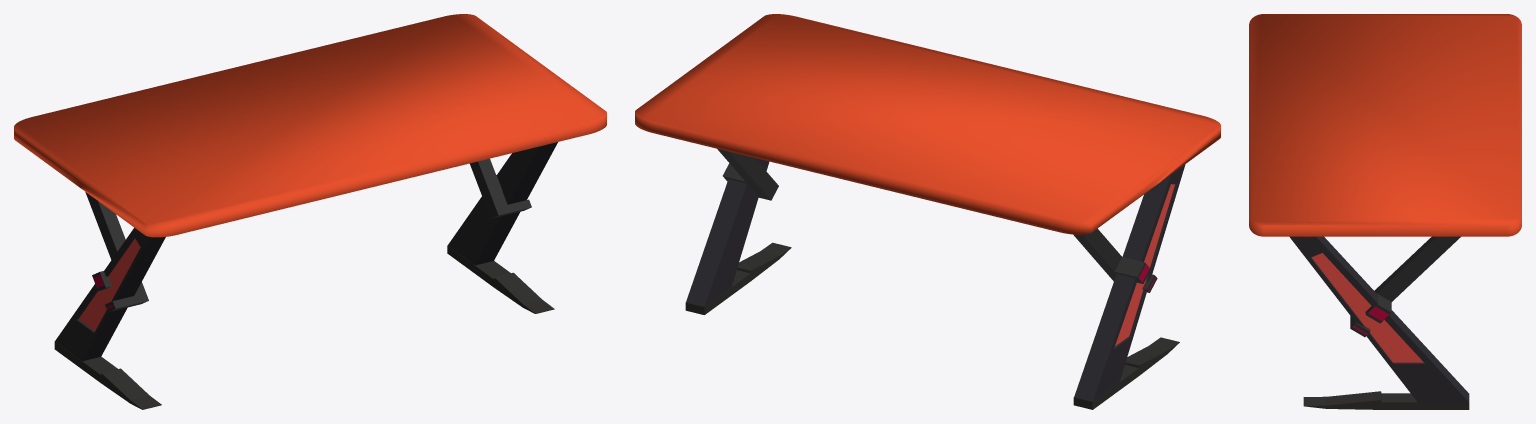
The model's file is desk_lvl3.glb.
3 views of the same model, side by side, from view 1: azimuth 30°, elevation 25°; view 2: azimuth 150°, elevation 25°; view 3: azimuth 270°, elevation 25° (orthographic). The views are drawn at different scales.
Parts seen in each view (by area): view 1: table.001_Cube.011, leg_1_backup_Cube.014, leg_1_backup.001_Cube.022, Cube.008_Cube.010, Cube.001_Cube.018, Cube.005_Cube.015, Cube.004_Cube.021; view 2: table.001_Cube.011, leg_1_backup_Cube.014, leg_1_backup.001_Cube.022, Cube.005_Cube.015, Cube.008_Cube.010, Cube.001_Cube.018, Cube.004_Cube.021; view 3: table.001_Cube.011, leg_1_backup.001_Cube.022, Cube.004_Cube.021, Cube.001_Cube.018.
Boxes of the visible parts, left/top/right/bottom form: table.001_Cube.011: left=14, top=14, right=606, bottom=237; leg_1_backup_Cube.014: left=55, top=227, right=165, bottom=361; leg_1_backup.001_Cube.022: left=448, top=142, right=557, bottom=265; Cube.008_Cube.010: left=54, top=341, right=161, bottom=409; Cube.001_Cube.018: left=447, top=245, right=554, bottom=313; Cube.005_Cube.015: left=85, top=192, right=148, bottom=312; Cube.004_Cube.021: left=470, top=158, right=531, bottom=218; table.001_Cube.011: left=635, top=14, right=1220, bottom=234; leg_1_backup_Cube.014: left=1074, top=164, right=1185, bottom=401; leg_1_backup.001_Cube.022: left=686, top=158, right=769, bottom=306; Cube.005_Cube.015: left=1073, top=228, right=1157, bottom=292; Cube.008_Cube.010: left=1073, top=337, right=1179, bottom=409; Cube.001_Cube.018: left=685, top=242, right=791, bottom=314; Cube.004_Cube.021: left=717, top=149, right=778, bottom=200; table.001_Cube.011: left=1249, top=14, right=1521, bottom=236; leg_1_backup.001_Cube.022: left=1289, top=236, right=1468, bottom=402; Cube.004_Cube.021: left=1350, top=236, right=1460, bottom=337; Cube.001_Cube.018: left=1303, top=391, right=1469, bottom=409.
Bounding box in the file's own units: 1.65 × 0.72 × 0.8994.
